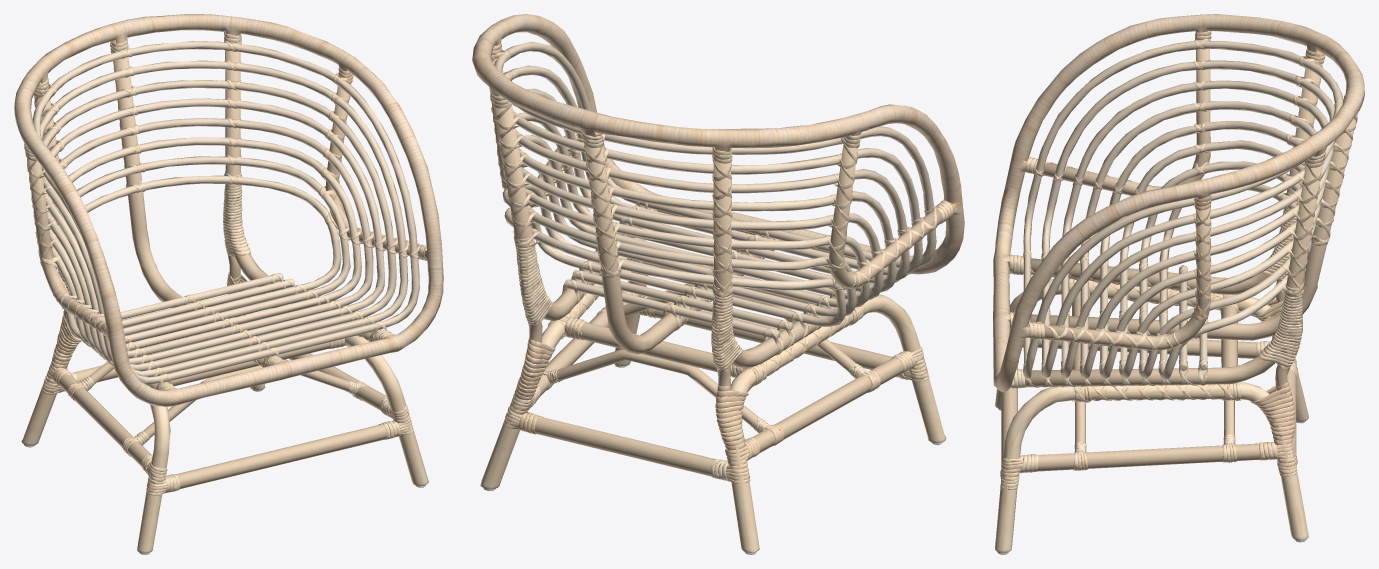
3 renders of one model, left to right at view 1: azimuth 30°, elevation 25°; view 2: azimuth 150°, elevation 25°; view 3: azimuth 270°, elevation 25°, orthographic. The views are drawn at different scales.
Visible parts, largest first — view 1: ASY_ART_70434311_S01_NV01; view 2: ASY_ART_70434311_S01_NV01; view 3: ASY_ART_70434311_S01_NV01.
Part boxes in pixels (x1,y1,x2,y2): ASY_ART_70434311_S01_NV01: [14, 14, 443, 554]; ASY_ART_70434311_S01_NV01: [472, 14, 964, 554]; ASY_ART_70434311_S01_NV01: [993, 14, 1364, 554].
Bounding box in the file's own units: 0.7111 × 0.7521 × 0.6303.
1 material, 1 textured.
